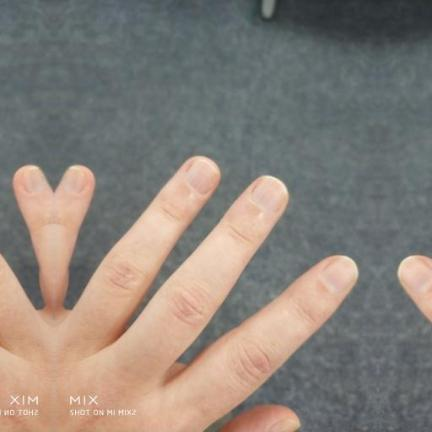Nail: (321, 256, 358, 294), (252, 175, 288, 213), (398, 256, 432, 294), (186, 158, 218, 194), (63, 166, 87, 193), (21, 166, 45, 193), (267, 419, 301, 431)
